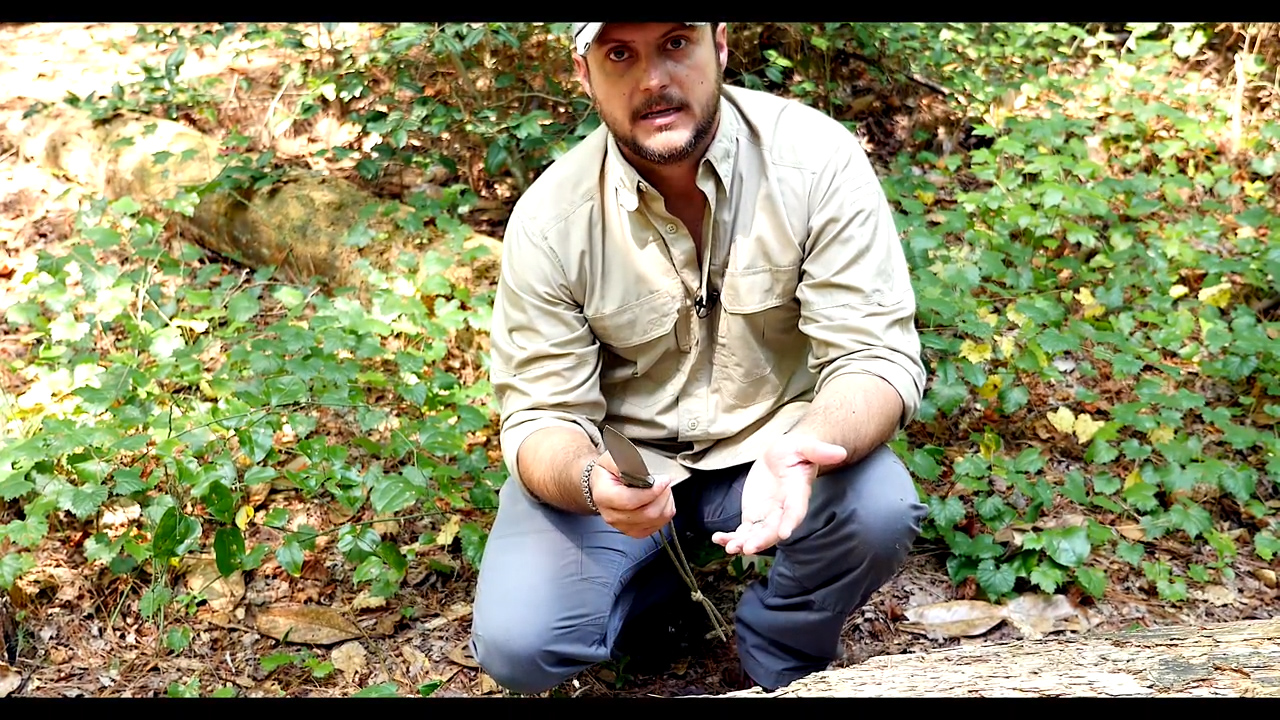knife: (595, 417, 678, 542)
